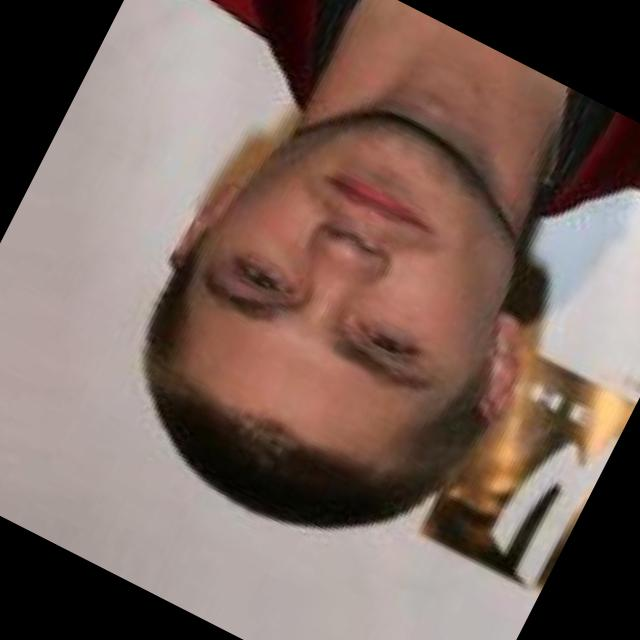bareface: (130, 68, 551, 524)
